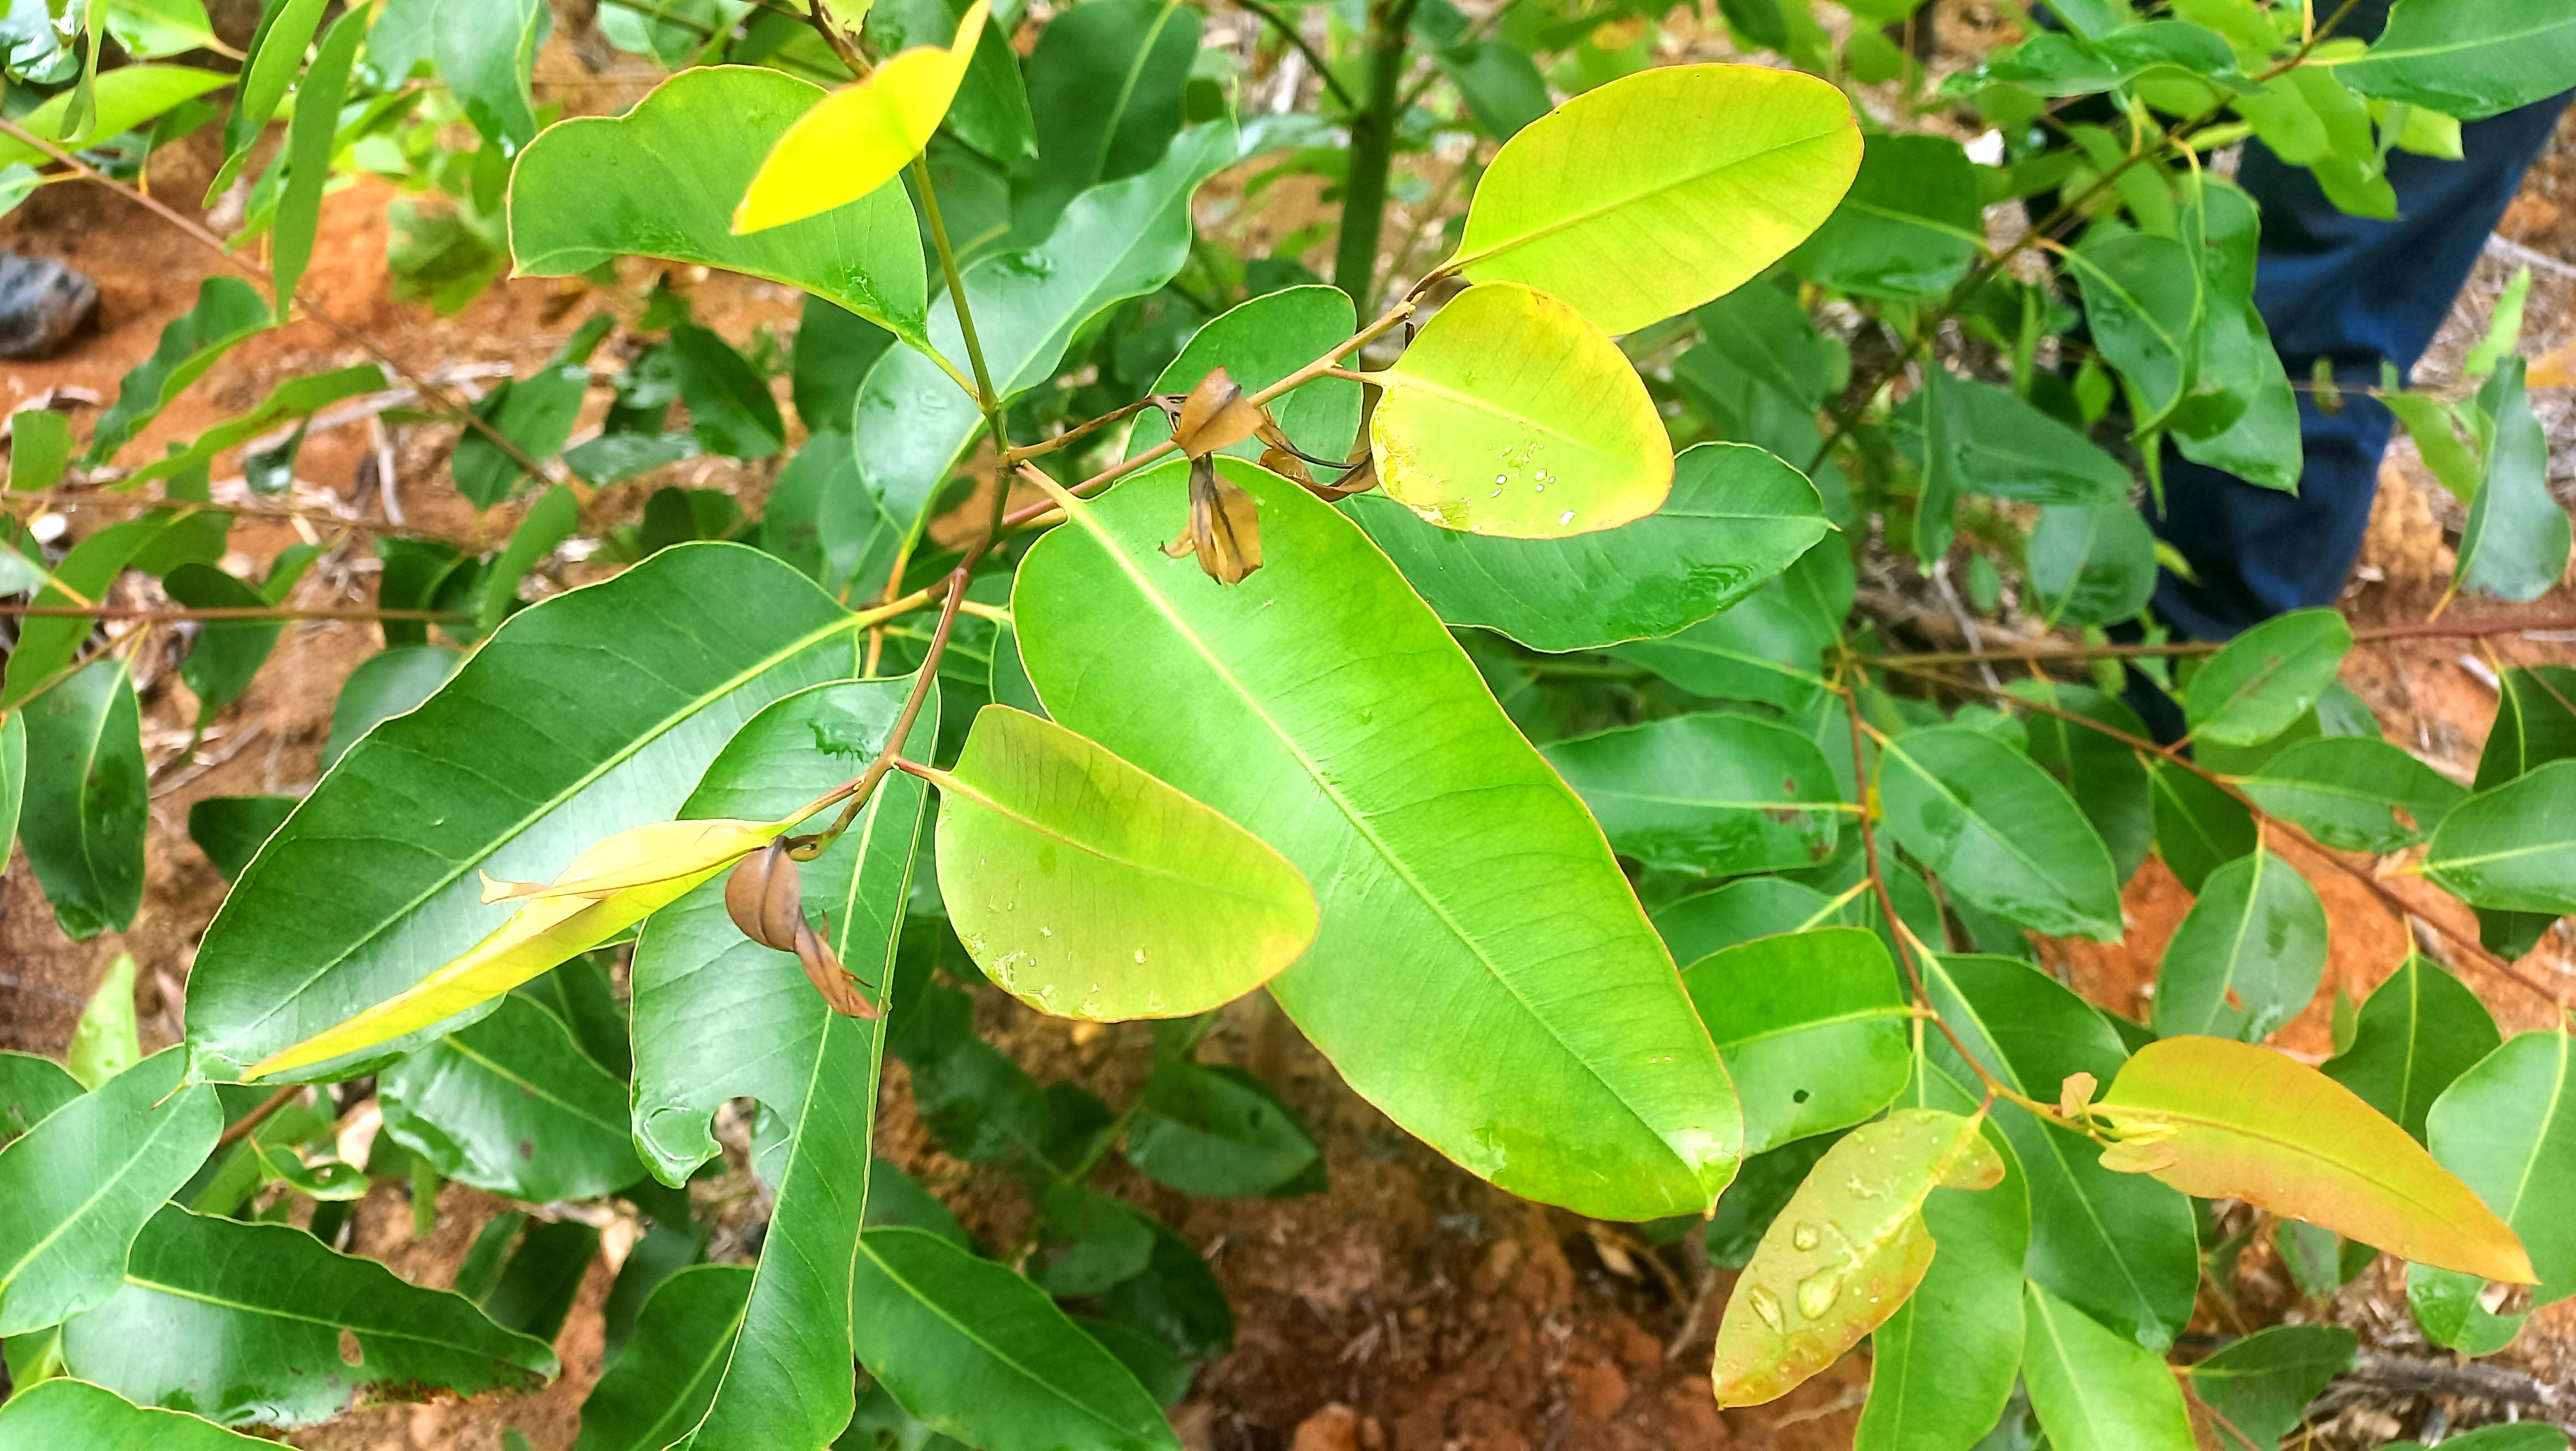Helopeltis-Withered Sprout: (1998, 1023, 2554, 1297), (1725, 1104, 1993, 1430), (719, 836, 892, 1028), (482, 817, 708, 903), (1158, 473, 1279, 588), (1285, 413, 1396, 513), (1176, 371, 1269, 462), (1189, 484, 1225, 591), (1160, 521, 1196, 558)
